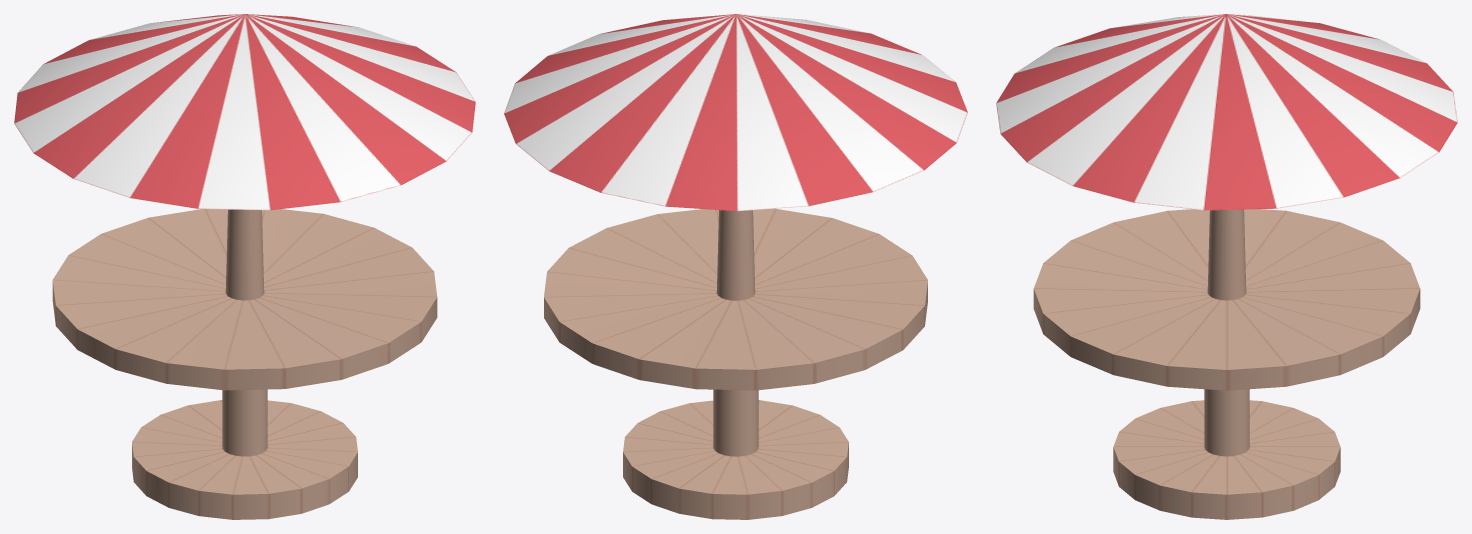
File: palasol1.fbx
3 renders of one model, left to right at view 1: azimuth 30°, elevation 25°; view 2: azimuth 150°, elevation 25°; view 3: azimuth 270°, elevation 25°, orthographic.
Visible parts, largest first — view 1: pCylinder3; view 2: pCylinder3; view 3: pCylinder3.
Part boxes in pixels (bbox=[...]): pCylinder3: bbox=[14, 14, 475, 519]; pCylinder3: bbox=[504, 14, 967, 519]; pCylinder3: bbox=[996, 14, 1457, 519].
Size of the model in its own units: 2.17 by 2.38 by 2.17.
1 material, 1 textured.
